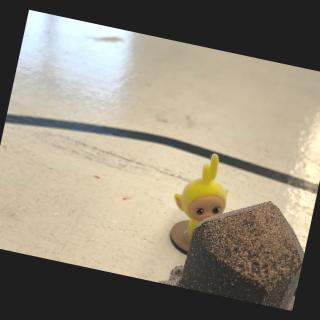teletubby: (174, 153, 227, 239)
